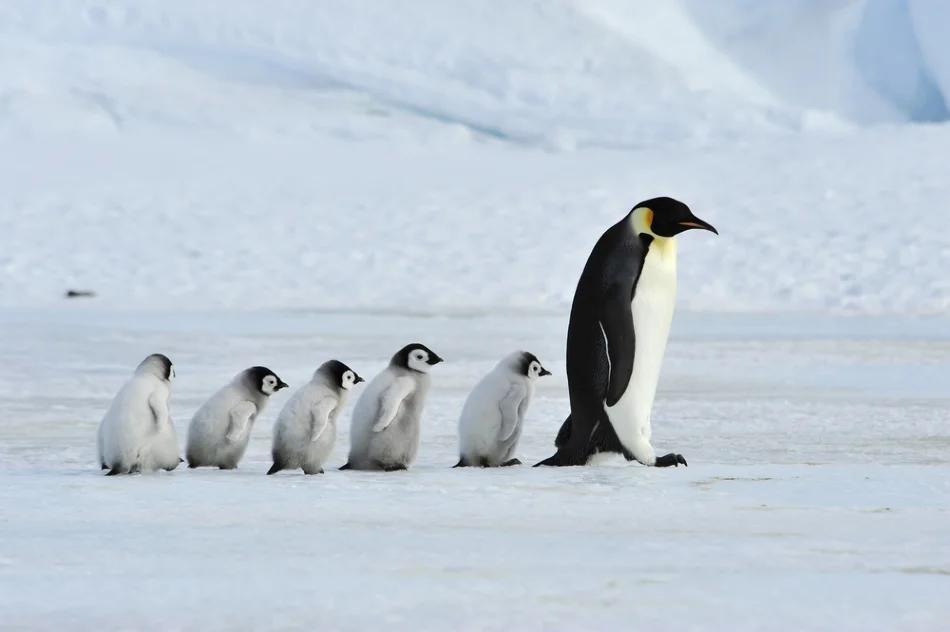Penguin: (536, 197, 715, 466), (340, 343, 442, 470), (456, 351, 550, 466), (267, 360, 361, 475), (186, 366, 288, 468), (100, 354, 179, 474)
